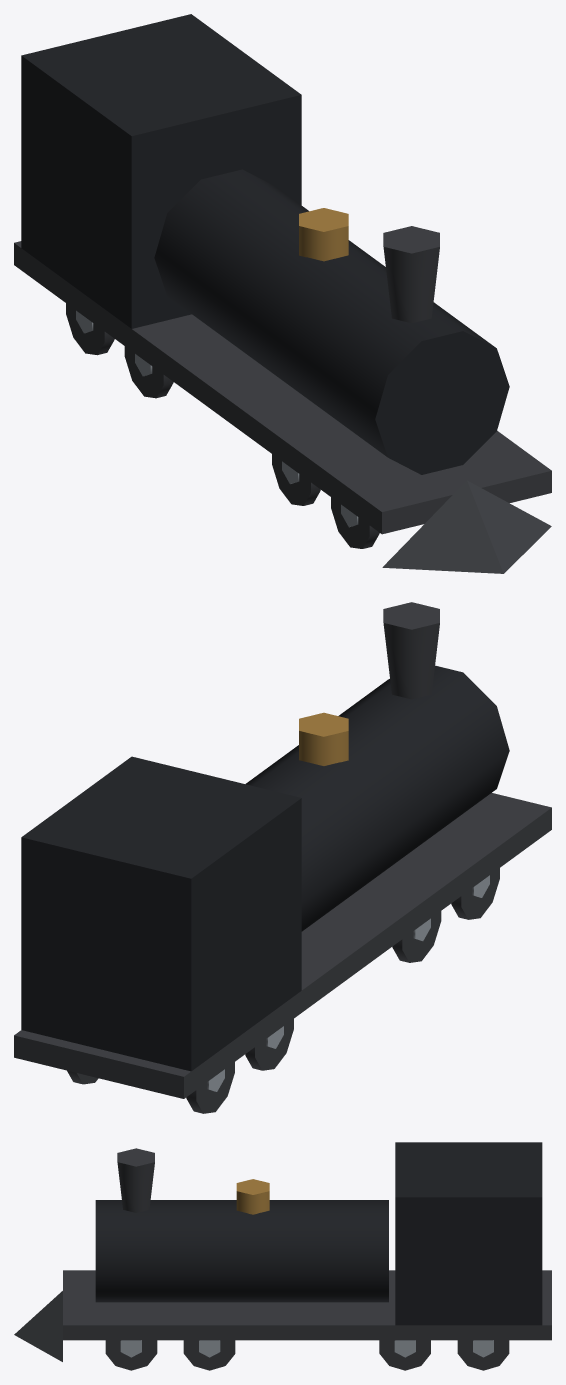
The model's file is veh_ground_locomotive_a05.glb.
3 views of the same model, one above another, from view 1: azimuth 30°, elevation 25°; view 2: azimuth 150°, elevation 25°; view 3: azimuth 270°, elevation 25° (orthographic). The views are drawn at different scales.
Visible parts, largest first — view 1: body, wheel_2, wheel_0, wheel_4, wheel_6; view 2: body, wheel_4, wheel_0, wheel_6, wheel_2; view 3: body, wheel_7, wheel_5, wheel_1, wheel_3.
Boxes of the visible parts, left/top/right/bottom form: body: left=14, top=14, right=551, bottom=573; wheel_2: left=124, top=346, right=173, bottom=398; wheel_0: left=66, top=303, right=114, bottom=355; wheel_4: left=272, top=454, right=320, bottom=505; wheel_6: left=331, top=497, right=379, bottom=548; body: left=14, top=602, right=551, bottom=1098; wheel_4: left=392, top=911, right=441, bottom=962; wheel_0: left=186, top=1062, right=234, bottom=1113; wheel_6: left=451, top=868, right=499, bottom=919; wheel_2: left=245, top=1019, right=293, bottom=1070; body: left=14, top=1142, right=551, bottom=1361; wheel_7: left=105, top=1340, right=157, bottom=1370; wheel_5: left=183, top=1340, right=235, bottom=1370; wheel_1: left=457, top=1340, right=509, bottom=1370; wheel_3: left=379, top=1340, right=430, bottom=1370.
Size of what is drawn, in the model's own units: 2.4 by 3.9 by 9.9.
